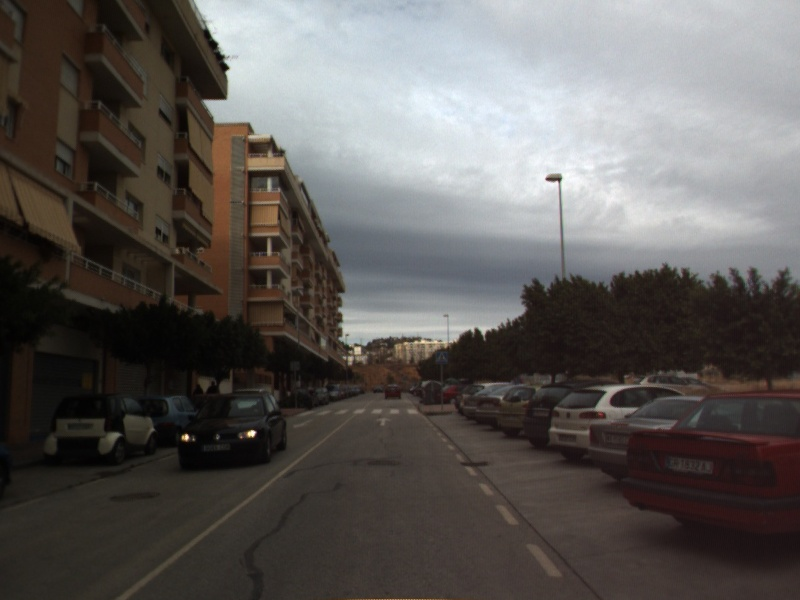STRAIGHT: (374, 415, 394, 428)
